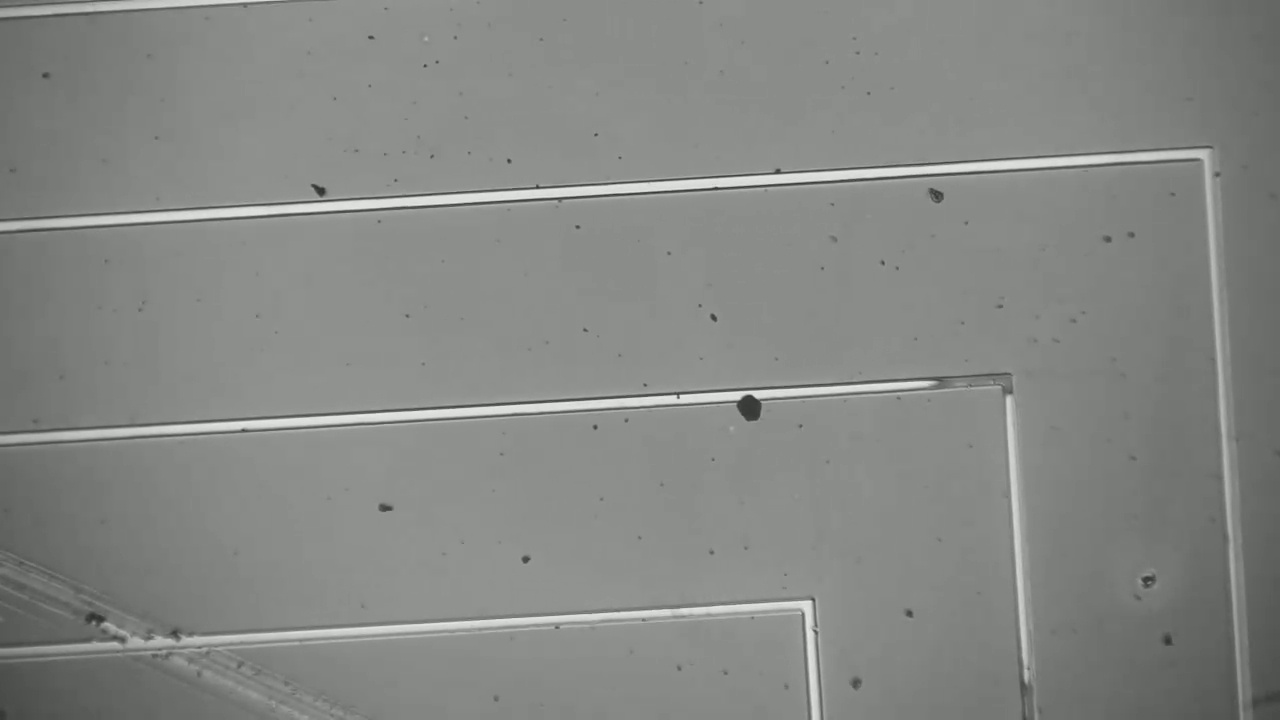edge_bite: (799, 620, 824, 640)
gray_line: (912, 368, 1020, 393), (1008, 669, 1044, 719), (993, 356, 1021, 406)
scratch: (0, 546, 359, 714)
stains_enbedded: (722, 379, 780, 437)
